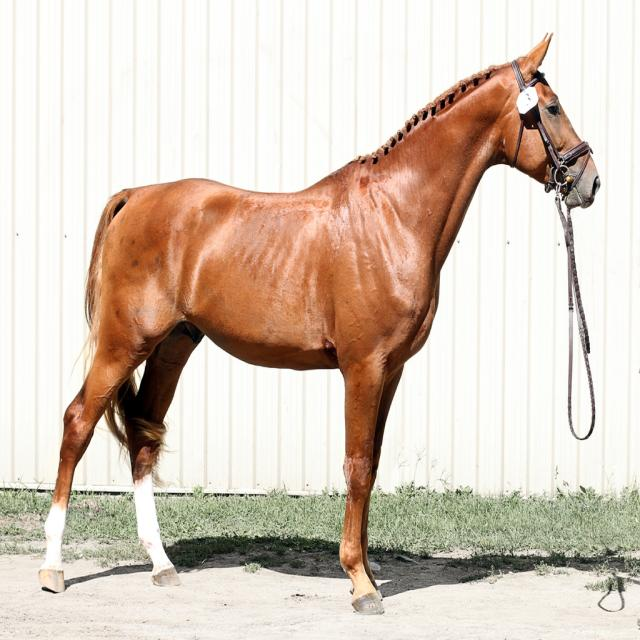Horse: (38, 32, 601, 614)
